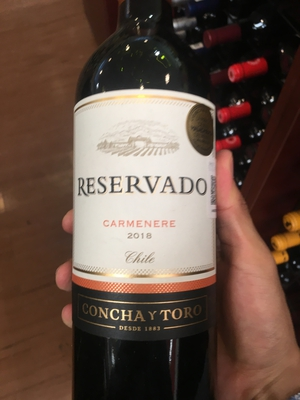reservado carmenere: (53, 16, 234, 400)
